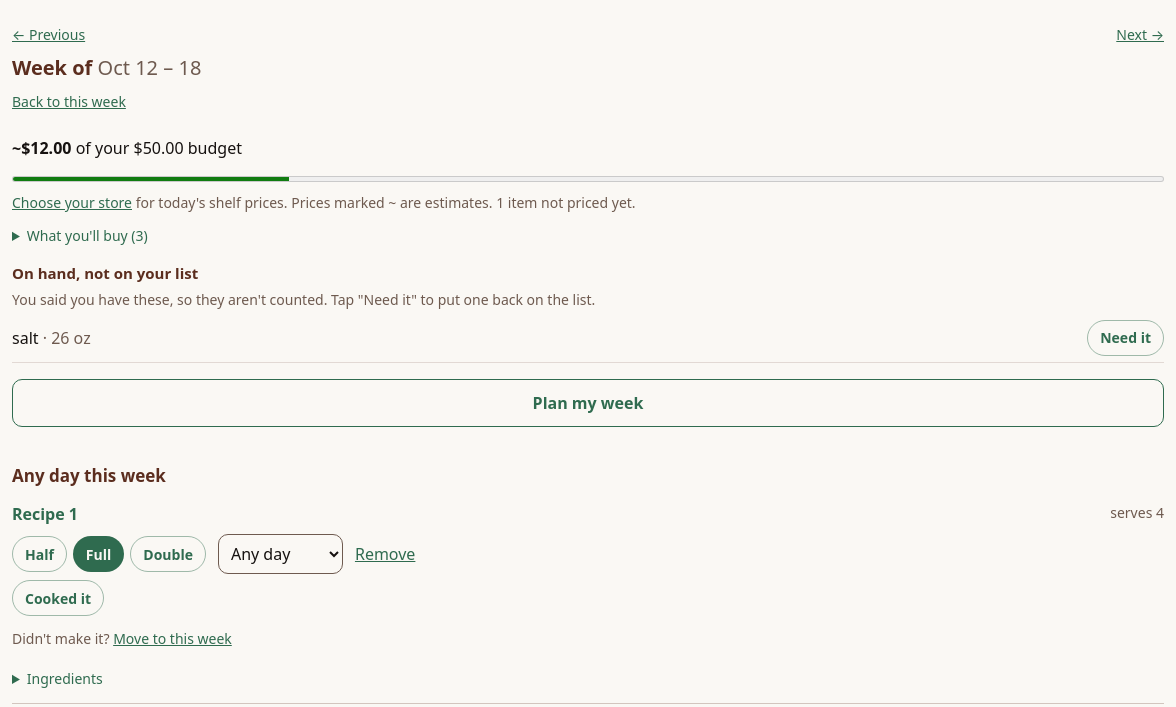
Test: PlanPage › lists what to buy, by the package or by the amount, and what’s on hand
Click the heading "What you'll buy (3)" at (87, 236), box [27,226,148,245]
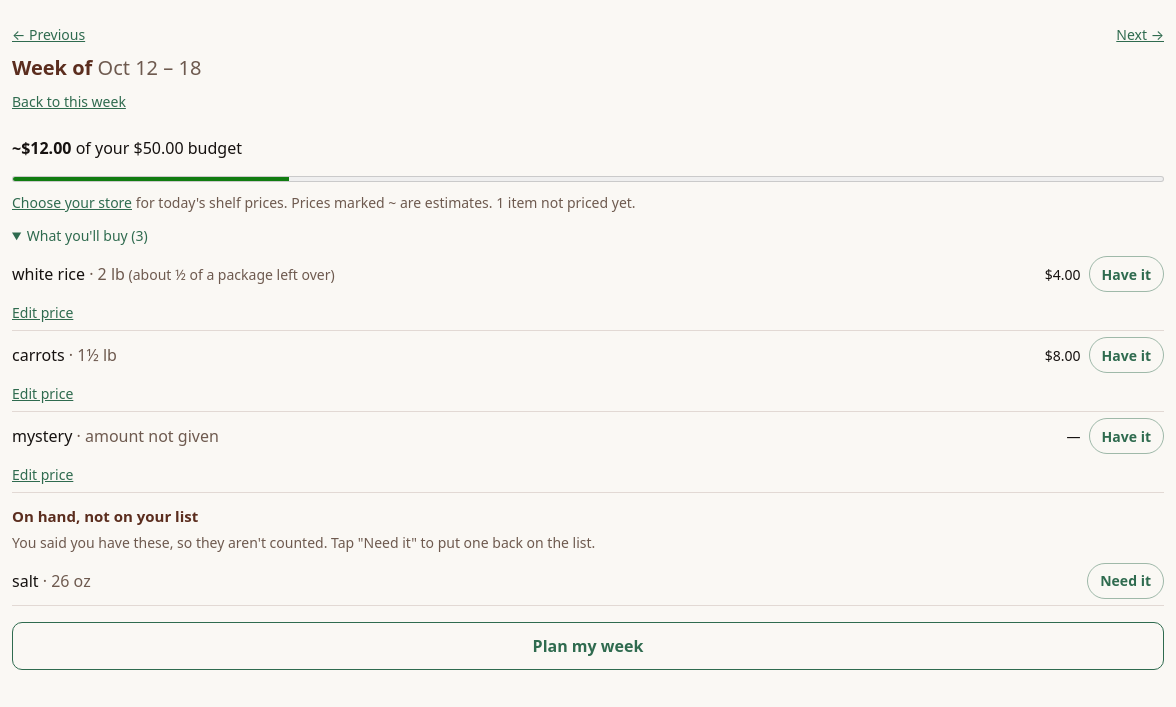
Expected: the list item "white rice" shows "2 lb", [98,263,125,285]
Expected: the list item "white rice" shows "$4.00", [1045,264,1081,284]
Expected: the list item "white rice" shows "½ of a package left over", [12,250,1164,331]
